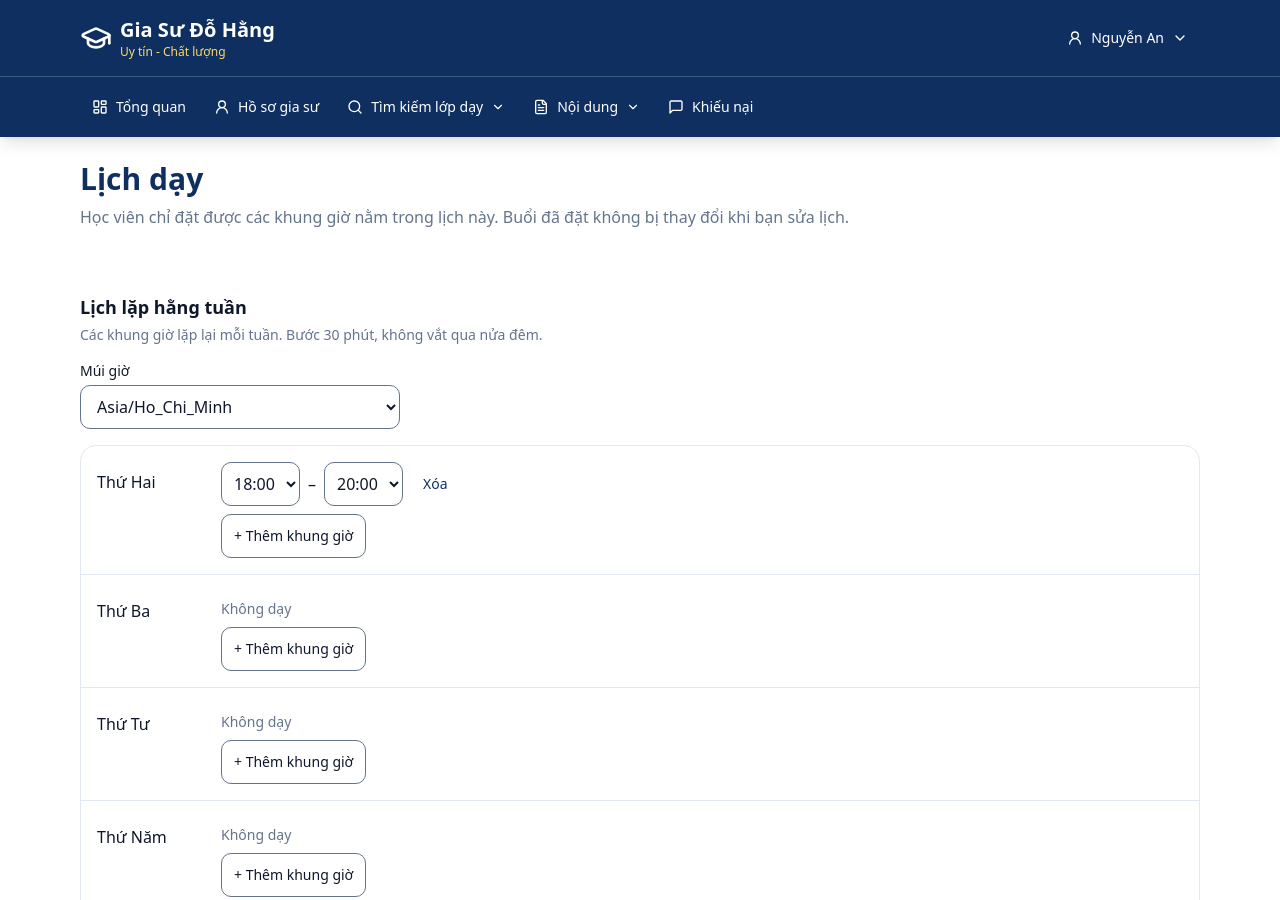
Test: weekly schedule editor › shows rules per weekday and enables Save only when changed
Select "17:00" in the dropdown named "Thứ Hai: giờ bắt đầu" at (260, 484), box [221,462,300,506]
(page scrolled)
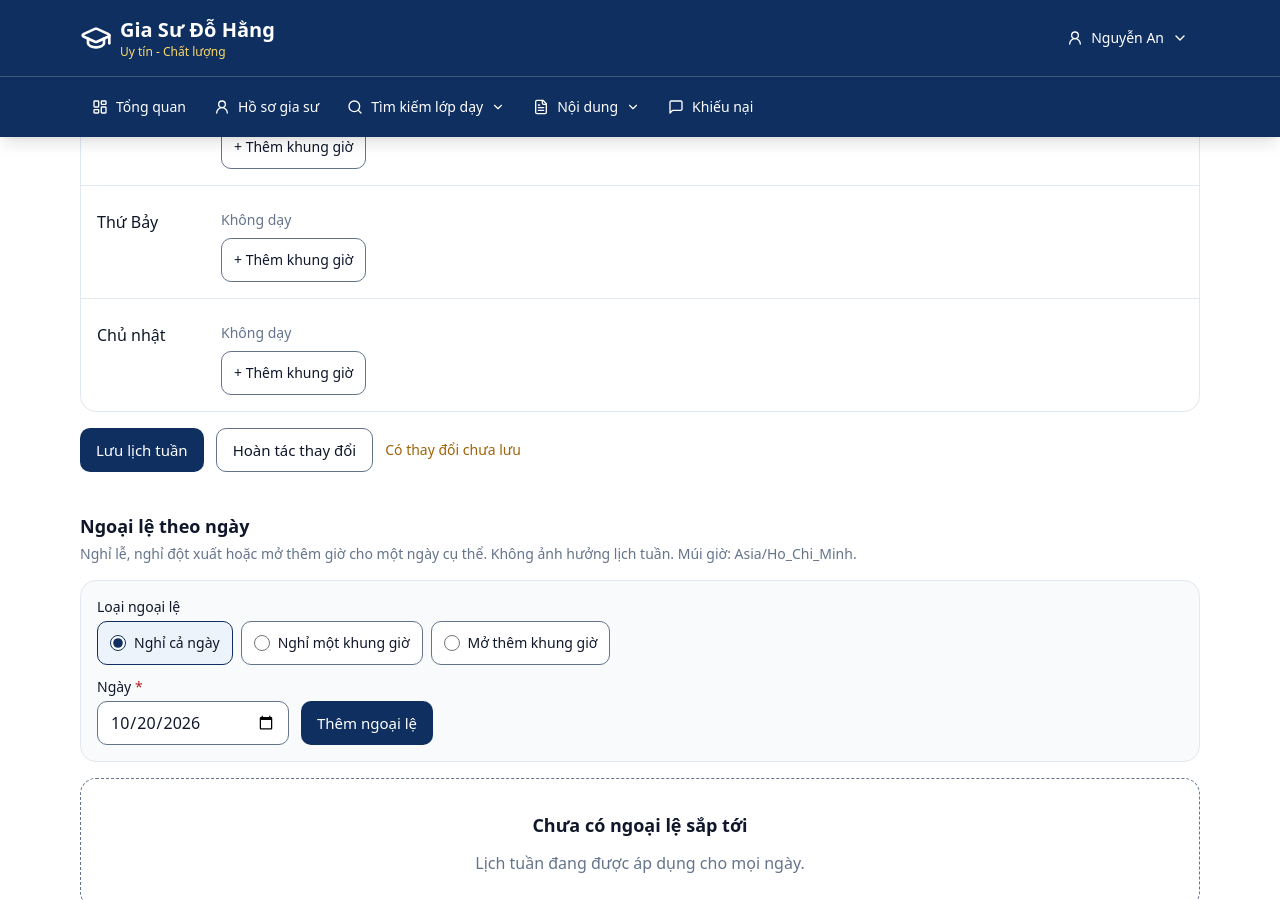
Expected: the button "Lưu lịch tuần" is enabled, [80,428,204,472]
Expected: the text "Có thay đổi chưa lưu" is shown, [385,440,521,460]
